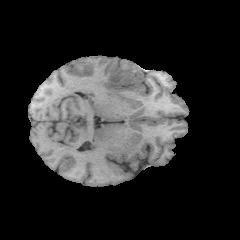glioma: (108, 59, 147, 97)
